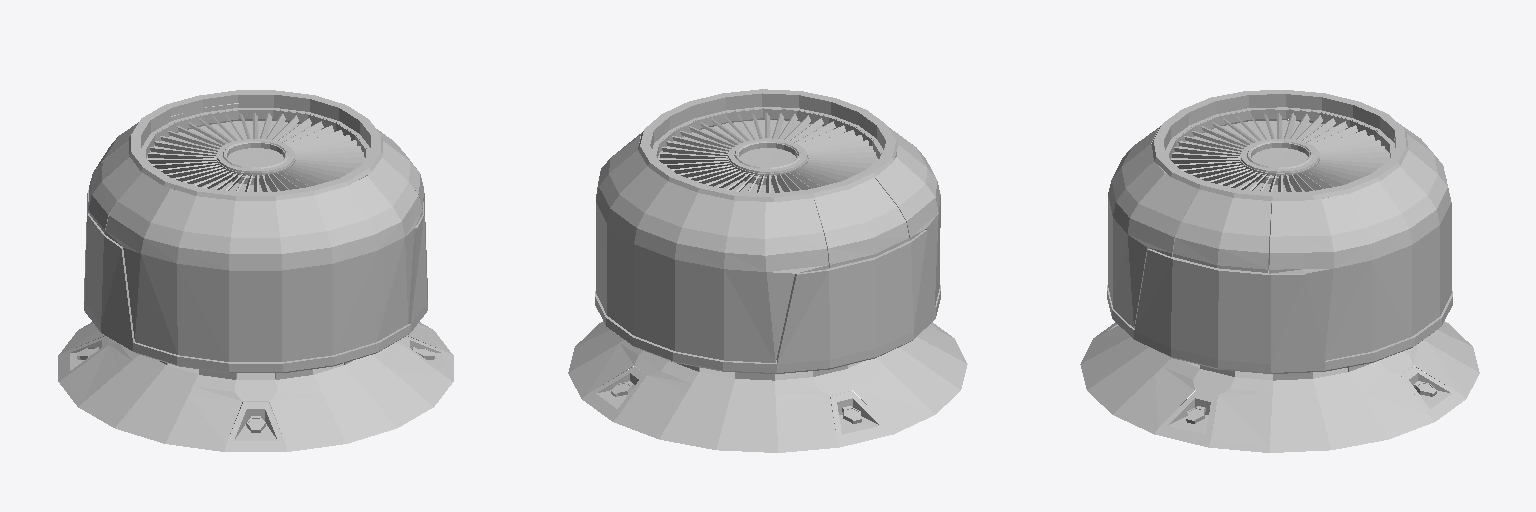
File: Fan_1.obj
The picture shows the model from 3 angles: view 1: azimuth 30°, elevation 25°; view 2: azimuth 150°, elevation 25°; view 3: azimuth 270°, elevation 25°; orthographic projection.
Visible parts, largest first — view 1: Fan_1; view 2: Fan_1; view 3: Fan_1.
Boxes of the visible parts, <box> form: Fan_1: <box>58,90,453,451</box>; Fan_1: <box>568,89,967,452</box>; Fan_1: <box>1080,90,1479,452</box>.
Size of the model in its own units: 4.65 by 2.89 by 4.65.